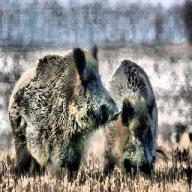boar: (8, 43, 122, 180), (100, 60, 166, 180)
